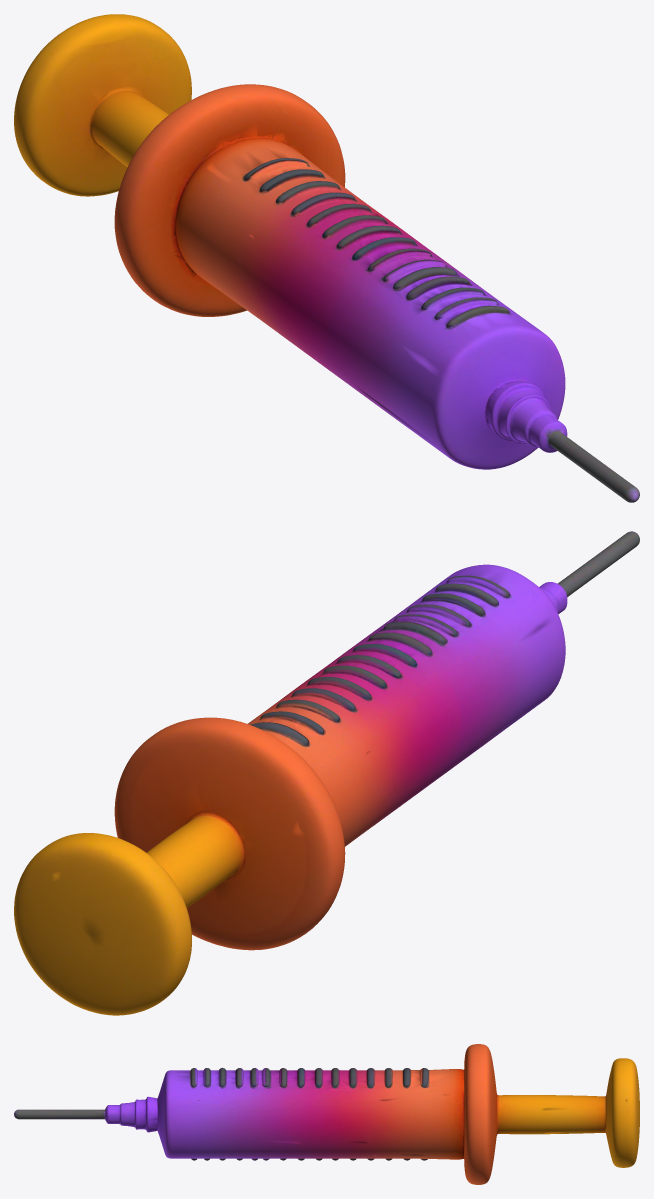
The model's file is syringe.glb.
3 renders of one model, top to bottom at view 1: azimuth 30°, elevation 25°; view 2: azimuth 150°, elevation 25°; view 3: azimuth 270°, elevation 25°, orthographic. The views are drawn at different scales.
Visible parts, largest first — view 1: node_0; view 2: node_0; view 3: node_0.
Boxes of the visible parts, bbox=[...] form: node_0: bbox=[14, 14, 639, 502]; node_0: bbox=[14, 531, 639, 1015]; node_0: bbox=[14, 1044, 639, 1184].
Size of the model in its own units: 0.2807 by 0.2668 by 1.2.
1 material, 1 textured.
